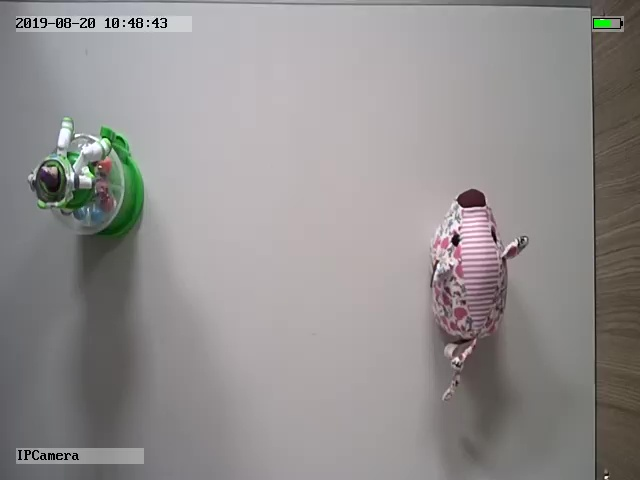buzz: (26, 116, 145, 241)
pig: (425, 187, 529, 405)
